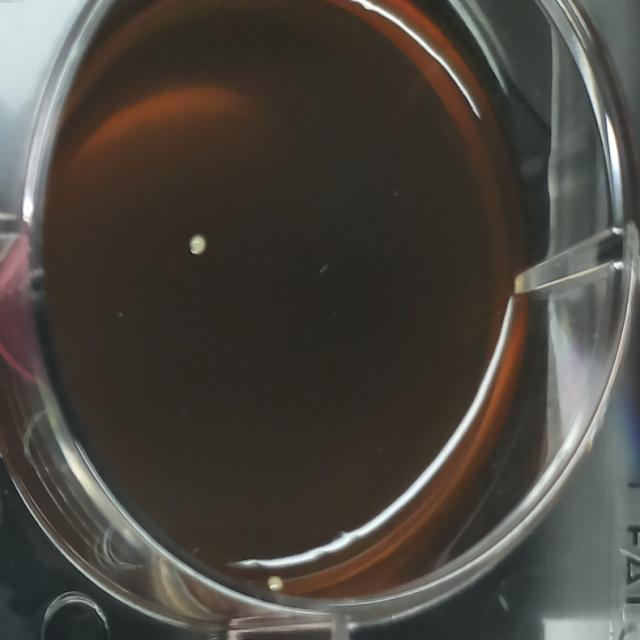Staphylococcus: (185, 228, 211, 262), (264, 568, 288, 598)
